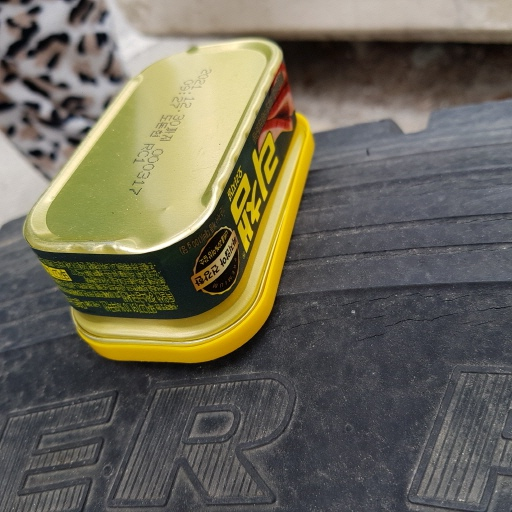Metal_2: (23, 40, 317, 369)
